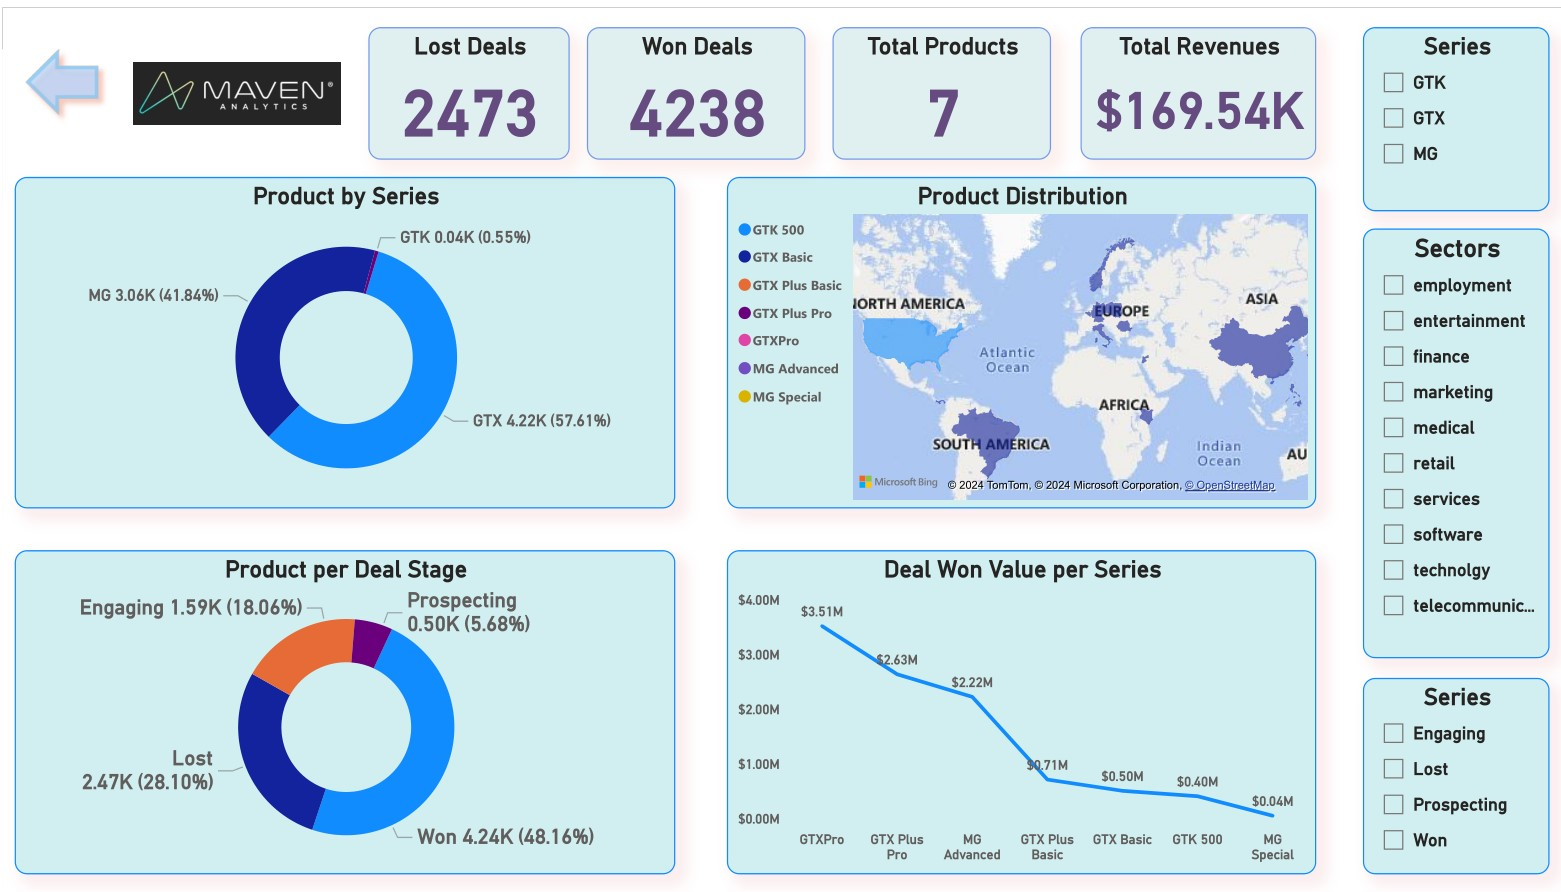

What the dashboard file says about the page in this screenshot:
{"tool":"powerbi","page":{"name":"Product Analysis","canvas":[1280,720],"ordinal":3},"visuals":[{"type":"donutChart","title":"Product per Deal Stage","fields":{"Category":["sales_pipeline.deal_stage"],"Y":["CountNonNull(sales_pipeline.product)"]},"box":[9.7,426.6,540.5,279.9],"z":0},{"type":"slicer","title":"Series","fields":{"Values":["products.series"]},"box":[1108,16,152,150],"z":1000},{"type":"slicer","title":"Sectors","fields":{"Values":["accounts.sector"]},"box":[1108,180,152,350],"z":2000},{"type":"card","title":"Total Products","fields":{"Values":["Count(sales_pipeline.product)"]},"box":[676,16,178,108],"z":3000},{"type":"donutChart","title":"Product by Series","fields":{"Category":["products.series"],"Y":["CountNonNull(sales_pipeline.product)"]},"box":[9.7,137,540.5,270.2],"z":4000},{"type":"card","title":"Total Revenues","fields":{"Values":["Sum(accounts.revenue)"]},"box":[878,16,192,108],"z":5000},{"type":"filledMap","title":"Product Distribution","fields":{"Category":["accounts.office_location"],"Series":["sales_pipeline.product"]},"box":[565.6,137,503.8,270.2],"z":6000},{"type":"lineChart","title":"Deal Won Value per Series","fields":{"Category":["sales_pipeline.product"],"Y":["sales_pipeline.won_value","sales_pipeline.Deal Lost Value"]},"box":[565.6,426.6,503.8,279.9],"z":7000},{"type":"actionButton","box":[9.7,25.1,77.2,71.4],"z":8000},{"type":"slicer","title":"Series","fields":{"Values":["sales_pipeline.deal_stage"]},"box":[1108,546,152,160],"z":9000},{"type":"card","title":"Won Deals","fields":{"Values":["sales_pipeline.won_products"]},"box":[476,16,178,108],"z":10000},{"type":"card","title":"Lost Deals","fields":{"Values":["sales_pipeline.lost_products"]},"box":[298,16,164,108],"z":11000},{"type":"image","box":[102,32,178,76],"z":12000}]}

Visuals, with their boxes in screenshot pixels (x1, y1, x2, y2), scaled from the page's 1280x720 canvas onto the 1561x892 screenshot:
"Product per Deal Stage" donutChart: (left=12, top=529, right=671, bottom=875)
"Series" slicer: (left=1351, top=20, right=1537, bottom=206)
"Sectors" slicer: (left=1351, top=223, right=1537, bottom=657)
"Total Products" card: (left=824, top=20, right=1041, bottom=154)
"Product by Series" donutChart: (left=12, top=170, right=671, bottom=504)
"Total Revenues" card: (left=1071, top=20, right=1305, bottom=154)
"Product Distribution" filledMap: (left=690, top=170, right=1304, bottom=504)
"Deal Won Value per Series" lineChart: (left=690, top=529, right=1304, bottom=875)
actionButton: (left=12, top=31, right=106, bottom=120)
"Series" slicer: (left=1351, top=676, right=1537, bottom=875)
"Won Deals" card: (left=580, top=20, right=798, bottom=154)
"Lost Deals" card: (left=363, top=20, right=563, bottom=154)
image: (left=124, top=40, right=341, bottom=134)
